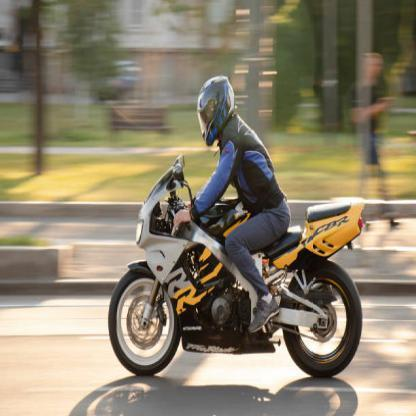Motorcycle: (107, 155, 367, 377)
